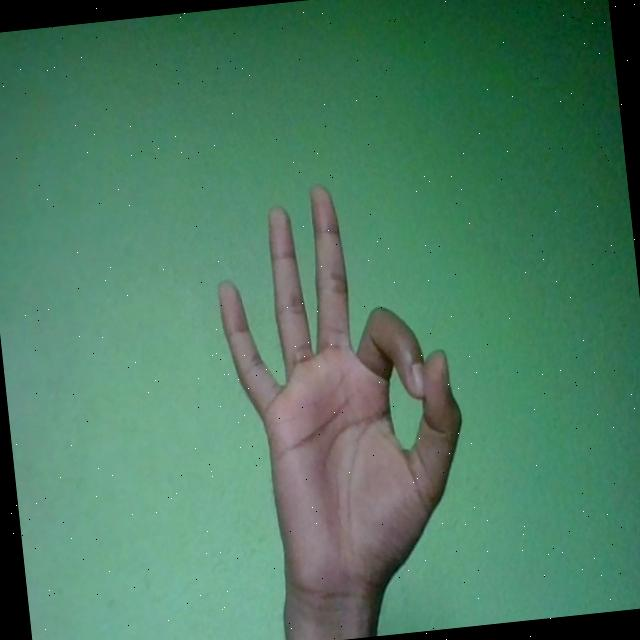Rock On: (206, 170, 482, 624)
